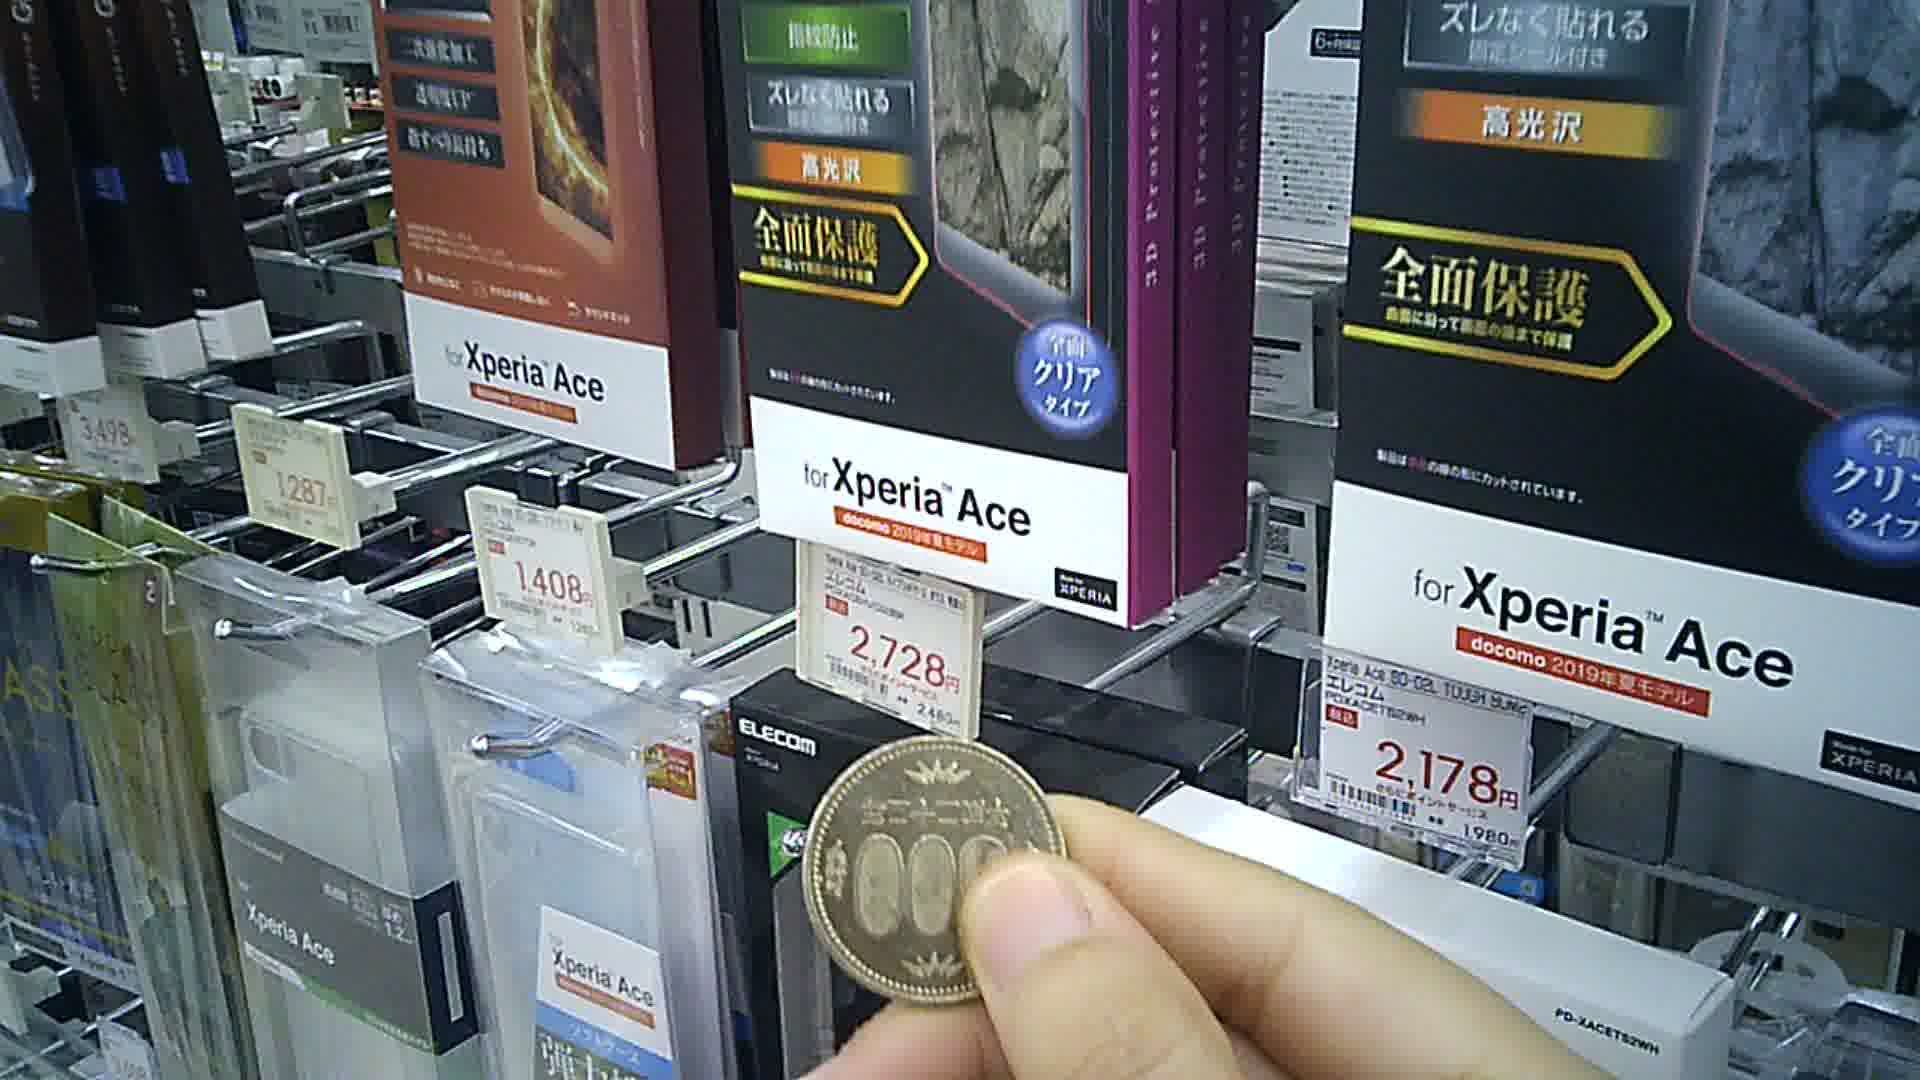500 Yen: (800, 733, 1091, 1002)
